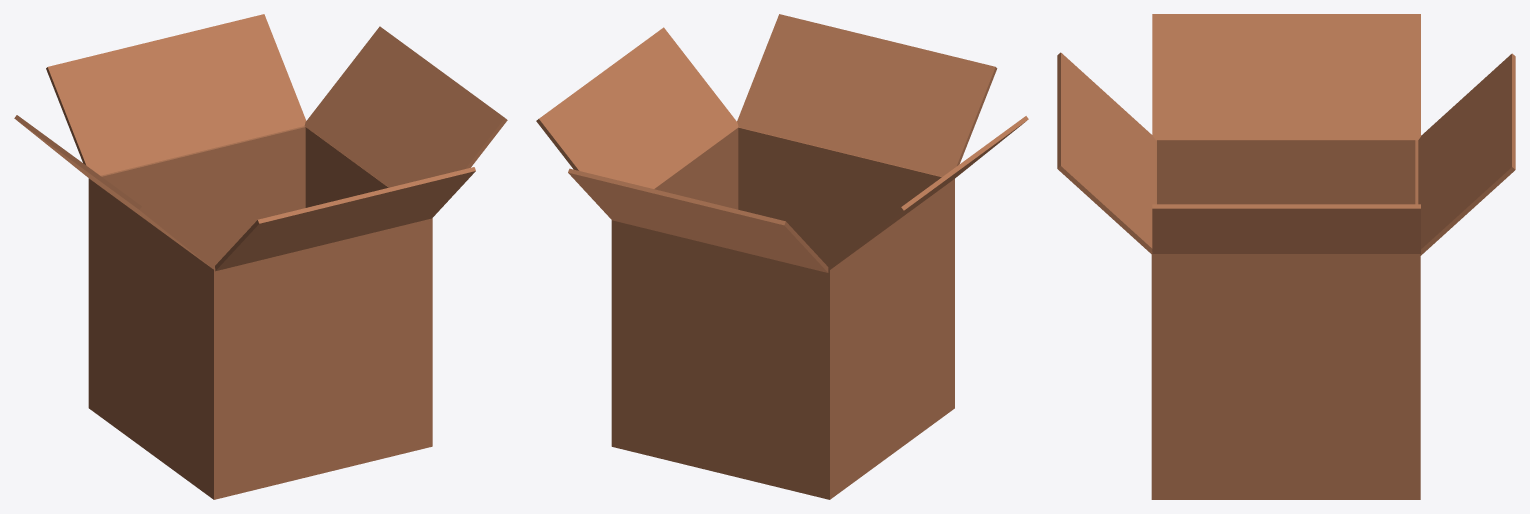
3 renders of one model, left to right at view 1: azimuth 30°, elevation 25°; view 2: azimuth 150°, elevation 25°; view 3: azimuth 270°, elevation 25°, orthographic. The views are drawn at different scales.
Parts seen in each view (by area): view 1: carton_walls, flap.003, flap, flap.002, flap.001; view 2: carton_walls, flap.002, flap, flap.003, flap.001; view 3: carton_walls, flap.001, flap, flap.002, flap.003.
Boxes of the visible parts, x1,y1,x2,y2 form: carton_walls: [88, 126, 432, 499]; flap.003: [46, 14, 306, 175]; flap: [304, 26, 507, 187]; flap.002: [215, 167, 475, 271]; flap.001: [14, 115, 215, 269]; carton_walls: [611, 127, 954, 499]; flap.002: [737, 14, 997, 176]; flap: [536, 27, 738, 188]; flap.003: [568, 168, 828, 272]; flap.001: [827, 116, 1028, 270]; carton_walls: [1151, 140, 1420, 499]; flap.001: [1152, 14, 1420, 140]; flap: [1152, 204, 1420, 253]; flap.002: [1057, 52, 1155, 253]; flap.003: [1418, 53, 1515, 255].
Size of the model in its own units: 0.3994 by 0.322 by 0.4005.
